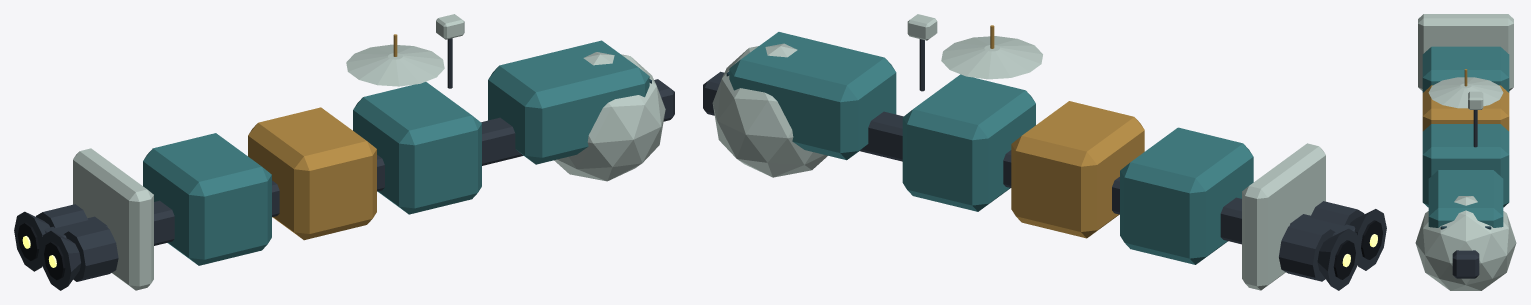
File: useful-doubt.glb
The picture shows the model from 3 angles, left to right: view 1: azimuth 30°, elevation 25°; view 2: azimuth 150°, elevation 25°; view 3: azimuth 270°, elevation 25°; orthographic projection. The views are drawn at different scales.
Parts seen in each view (by area): view 1: laboratory, laboratory.001, laboratory.002, forward command, reactor shield, observatory, structural spine, survey dish, engine jacket, engine bell, engine bell.001, engine jacket.001 (+3 smaller); view 2: laboratory, laboratory.002, laboratory.001, forward command, reactor shield, observatory, structural spine, survey dish, engine jacket.001, engine bell.001, engine bell, engine jacket (+3 smaller); view 3: observatory, laboratory.002, forward command, reactor shield, laboratory, laboratory.001, survey dish, structural spine, sensor head, radio mast.
Part boxes in pixels (x1,y1,x2,y2): laboratory: (143, 133, 271, 265); laboratory.001: (248, 107, 376, 240); laboratory.002: (353, 82, 481, 214); forward command: (488, 40, 649, 164); reactor shield: (73, 148, 153, 290); observatory: (554, 52, 665, 181); structural spine: (44, 79, 674, 245); survey dish: (346, 44, 444, 86); engine jacket: (64, 223, 118, 281); engine bell: (40, 231, 80, 290); engine bell.001: (14, 211, 49, 271); engine jacket.001: (36, 204, 87, 227); laboratory: (1120, 127, 1253, 264); laboratory.002: (902, 74, 1035, 211); laboratory.001: (1011, 101, 1144, 238); forward command: (729, 32, 896, 160); reactor shield: (1242, 143, 1325, 290); observatory: (712, 43, 827, 177); structural spine: (703, 71, 1355, 244); survey dish: (941, 36, 1042, 79); engine jacket.001: (1279, 221, 1335, 281); engine bell.001: (1317, 228, 1359, 290); engine bell: (1349, 209, 1386, 270); engine jacket: (1310, 201, 1364, 225); observatory: (1415, 196, 1516, 290); laboratory.002: (1422, 124, 1509, 207); forward command: (1428, 170, 1503, 227); reactor shield: (1418, 14, 1513, 90); laboratory: (1422, 46, 1509, 92); laboratory.001: (1422, 85, 1509, 131); survey dish: (1428, 77, 1503, 108); structural spine: (1452, 250, 1479, 278); sensor head: (1468, 91, 1483, 109); radio mast: (1473, 110, 1477, 147).
Bounding box in the file's own units: 11.39 × 3.3 × 2.1.
